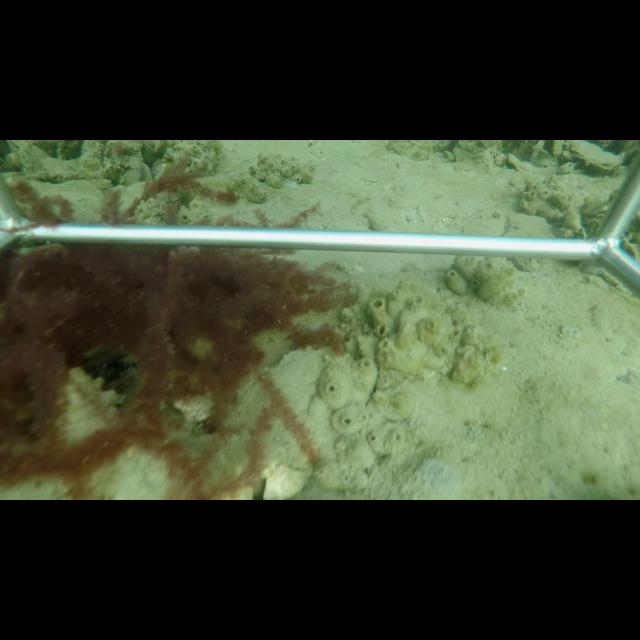Oyster-Closed: (564, 141, 629, 171)
